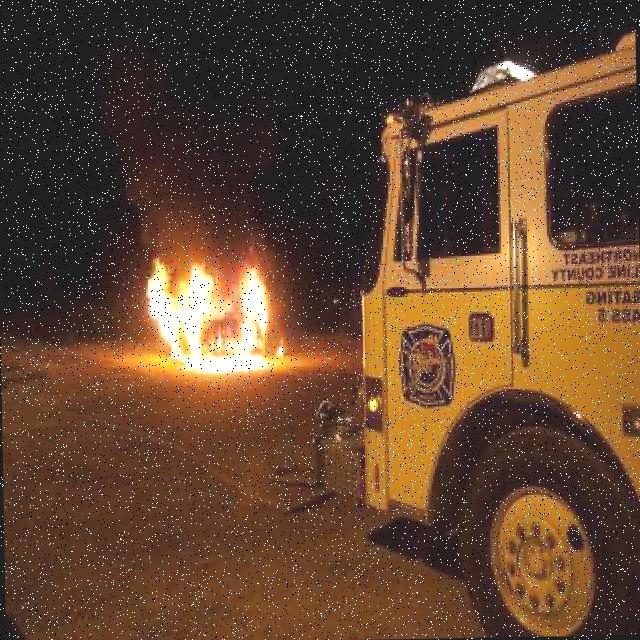Fire: (143, 237, 273, 377)
